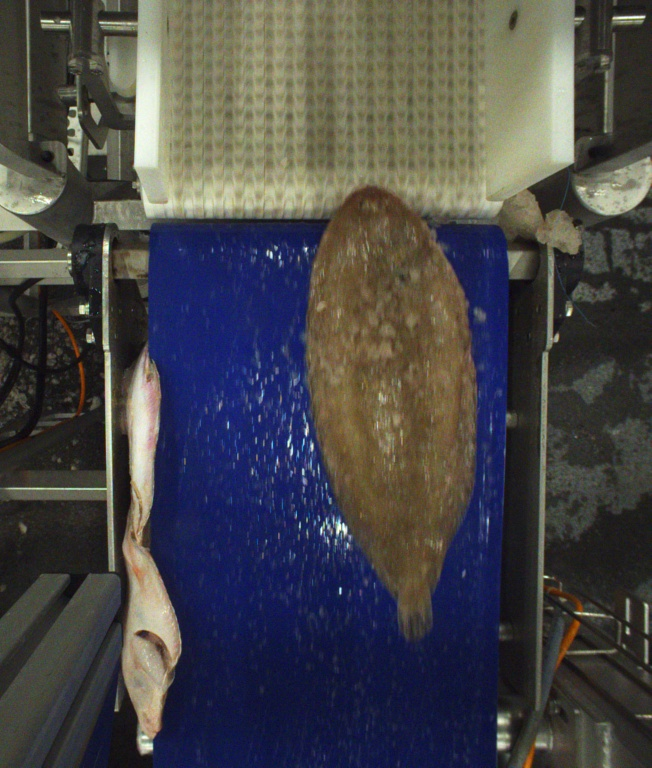SOL: (306, 185, 475, 636)
